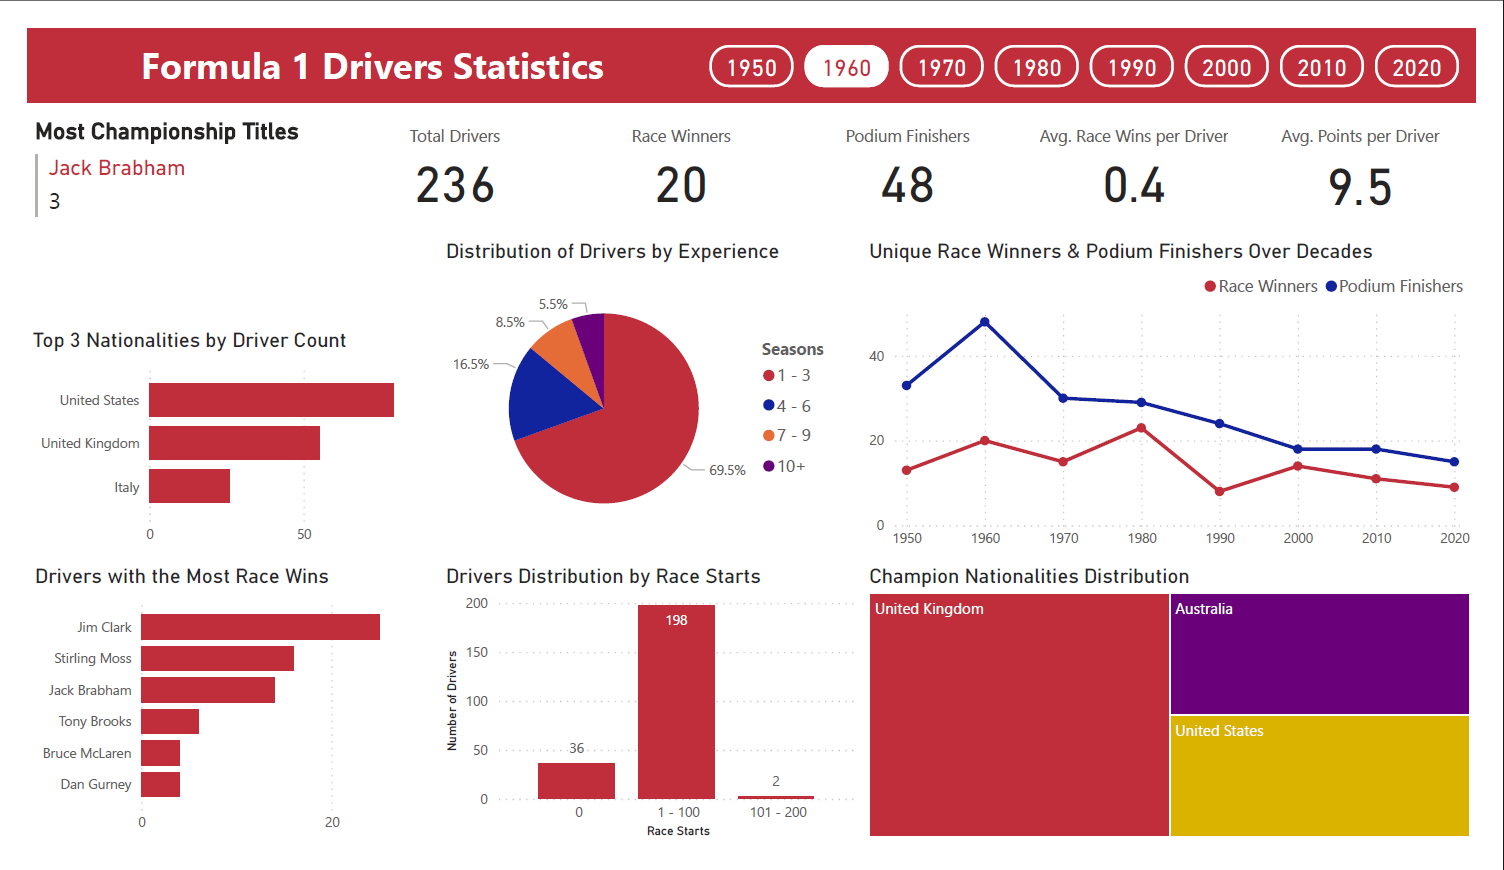

The dashboard page shown, as its layout file describes it:
{"tool":"powerbi","page":{"name":"Page 1","canvas":[1280,720],"ordinal":0},"visuals":[{"type":"barChart","title":"Drivers with the Most Race Wins","fields":{"Y":["drivers.Race_Wins"],"Category":["drivers.Driver"]},"box":[1.8,472.8,363.6,247.2],"z":0},{"type":"textbox","box":[0,0,628,66],"z":1000},{"type":"shape","box":[615.2,0,664.5,66.3],"z":2000},{"type":"cardVisual","fields":{"Data":["drivers.Driver","drivers.Race Winners Count","drivers.Podium Finishers Count","drivers.Race_Wins","drivers.Points"]},"box":[277,68,1003,109],"z":3000},{"type":"pieChart","title":"Distribution of Drivers by Experience","fields":{"Category":["drivers.Years_Active Group"],"Y":["drivers.Driver"]},"box":[365.4,186.3,363.6,278.5],"z":4000},{"type":"lineChart","title":"Unique Race Winners & Podium Finishers Over Decades","fields":{"Category":["drivers.Decade"],"Y":["drivers.Race Winners Count","drivers.Podium Finishers Count"]},"box":[739,186,540,283],"z":5000},{"type":"multiRowCard","title":"Most Championship Titles","fields":{"Values":["drivers.Driver","drivers.Championships"]},"box":[2,79,275,175],"z":6000},{"type":"barChart","title":"Top 3 Nationalities by Driver Count","fields":{"Y":["drivers.Driver"],"Category":["drivers.Nationality"]},"box":[0,265.1,337.6,199.7],"z":7000},{"type":"treemap","title":"Champion Nationalities Distribution","fields":{"Group":["drivers.Nationality"],"Values":["drivers.Champions Count"]},"box":[739.3,472.6,540.7,247.4],"z":8000},{"type":"advancedSlicerVisual","fields":{"Values":["drivers.Decade"]},"box":[598,10,673,47],"z":9000},{"type":"columnChart","title":"Drivers Distribution by Race Starts","fields":{"Y":["drivers.Driver"],"Category":["drivers.Race_Starts Groups"]},"box":[365.4,472.8,373.4,247.2],"z":10000}]}

Visuals, with their boxes on the page's 1280x720 design canvas (x1, y1, x2, y2). These are canvas units, not pixel positions in the 1504x870 screenshot, which may show the page scaled, cropped or inside an application window:
"Drivers with the Most Race Wins" barChart: 2, 473, 365, 720
textbox: 0, 0, 628, 66
shape: 615, 0, 1280, 66
cardVisual - drivers.Driver x drivers.Race Winners Count: 277, 68, 1280, 177
"Distribution of Drivers by Experience" pieChart: 365, 186, 729, 465
"Unique Race Winners & Podium Finishers Over Decades" lineChart: 739, 186, 1279, 469
"Most Championship Titles" multiRowCard: 2, 79, 277, 254
"Top 3 Nationalities by Driver Count" barChart: 0, 265, 338, 465
"Champion Nationalities Distribution" treemap: 739, 473, 1280, 720
advancedSlicerVisual - drivers.Decade: 598, 10, 1271, 57
"Drivers Distribution by Race Starts" columnChart: 365, 473, 739, 720
